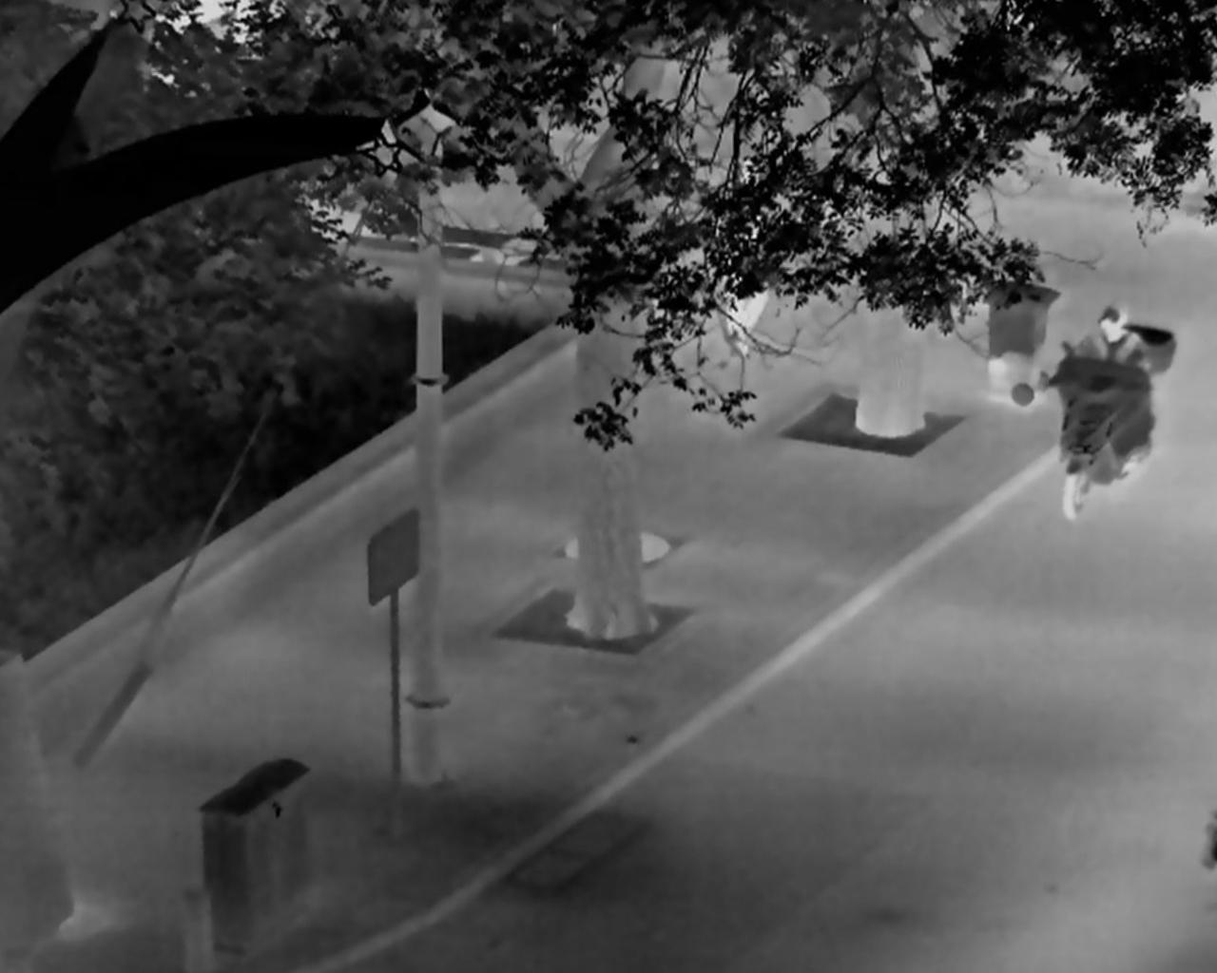person: (1056, 304, 1149, 473), (715, 158, 771, 354)
